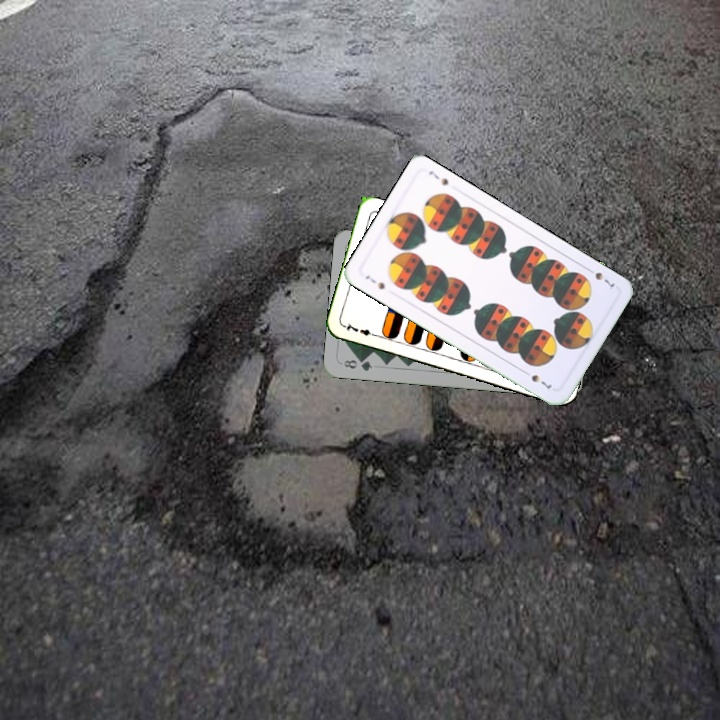E7: (340, 319, 380, 339)
G8: (340, 355, 375, 373)
S7: (582, 264, 619, 292), (361, 271, 387, 292)
